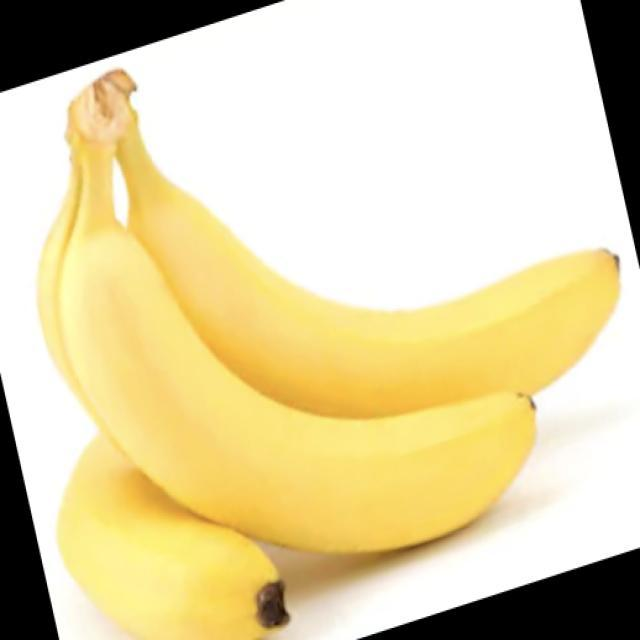Banana: (43, 70, 623, 556), (55, 431, 290, 639)
